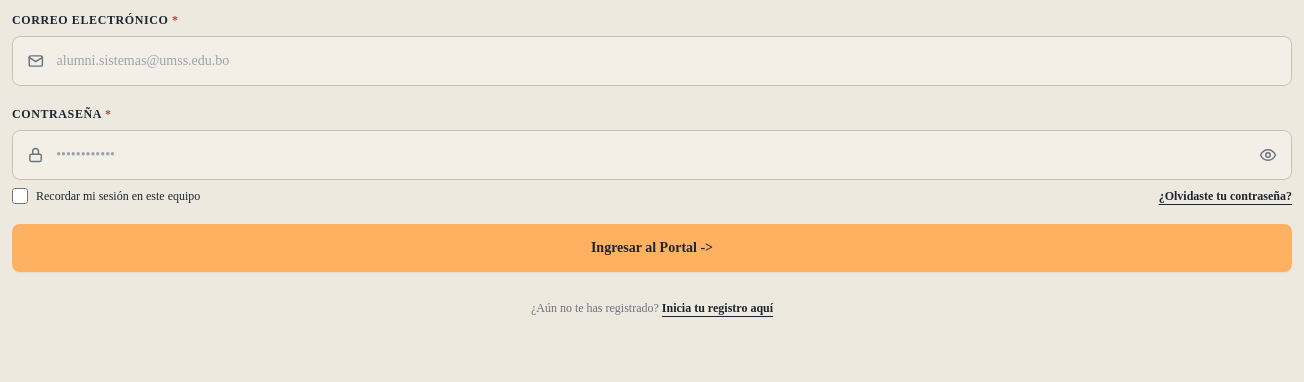
LoginForm › muestra los mensajes de validación cuando los campos están vacíos
Click the button "Ingresar al Portal ->" at [652, 248], box [12, 224, 1292, 272]
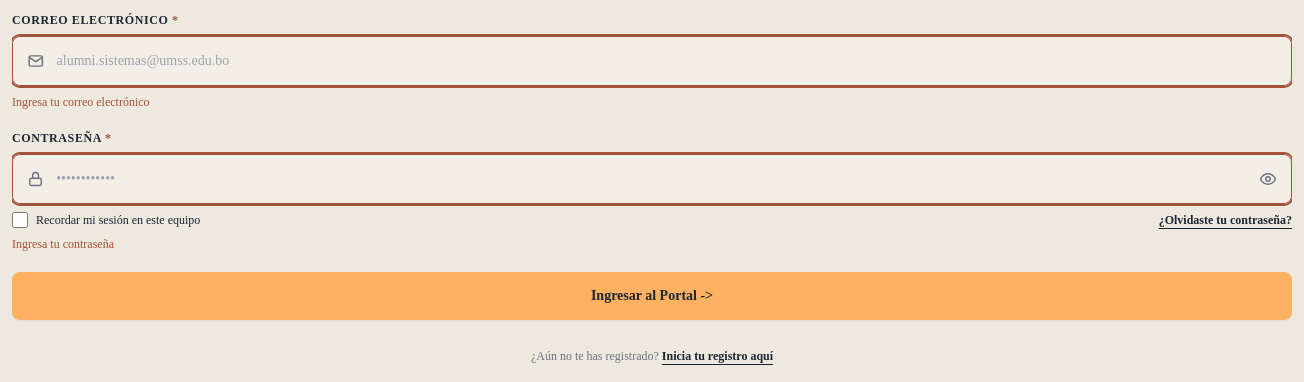
Now the text "Ingresa tu correo electrónico" is shown, box [12, 95, 150, 109]
Now the text "Ingresa tu contraseña" is shown, box [12, 237, 114, 251]
